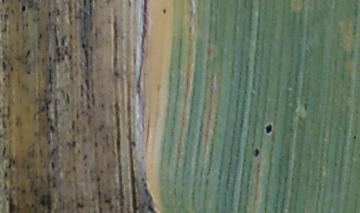tarspot: (264, 122, 273, 134), (252, 146, 261, 157), (147, 204, 158, 213), (19, 4, 27, 13), (351, 132, 358, 141), (80, 42, 87, 50), (161, 6, 167, 15)
